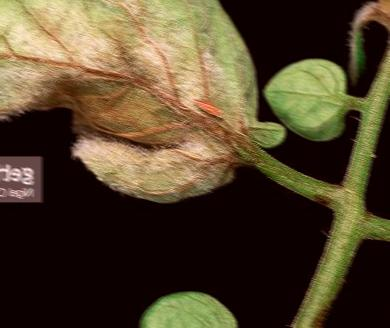Tomato leaf late blight: (0, 0, 270, 213)
